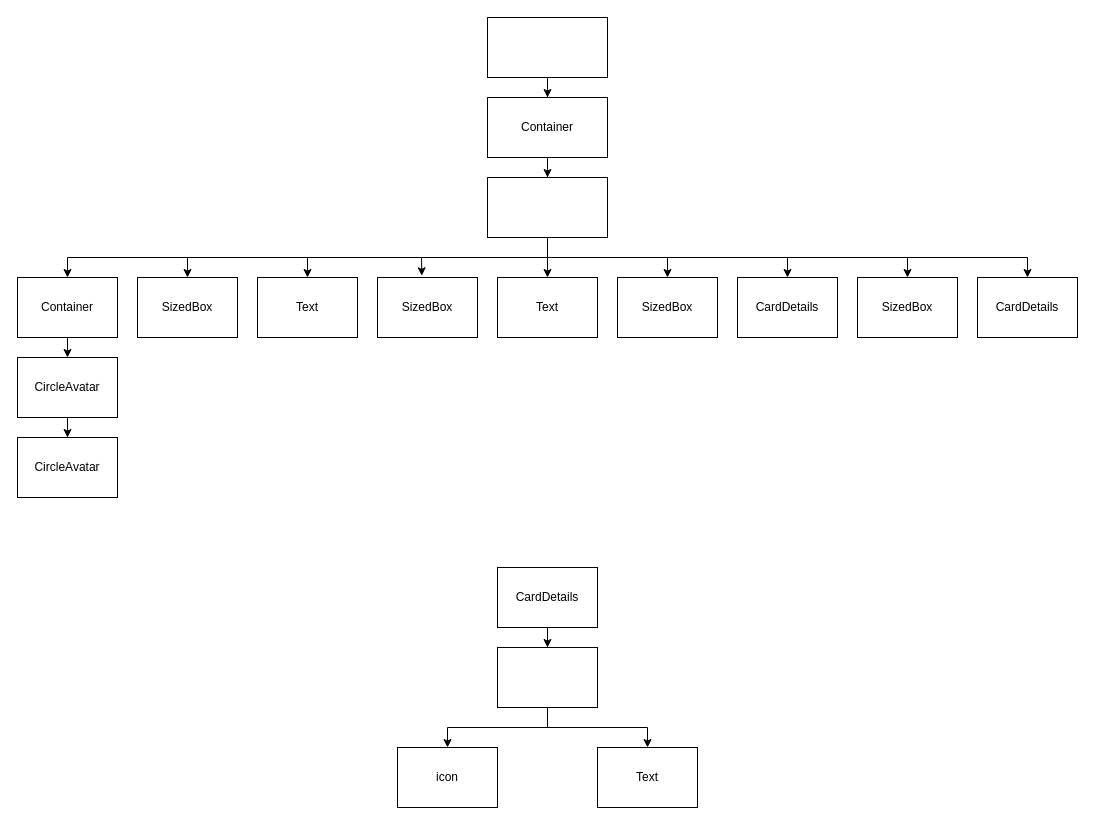
This 1095x825 diagram has some shape labels left out. The shapes that lost their labels are listed below. From the top down, each one's centre as x and y in pixels, then its label:
point 547,47: BusinessCard
point 547,207: Column
point 547,677: Row
